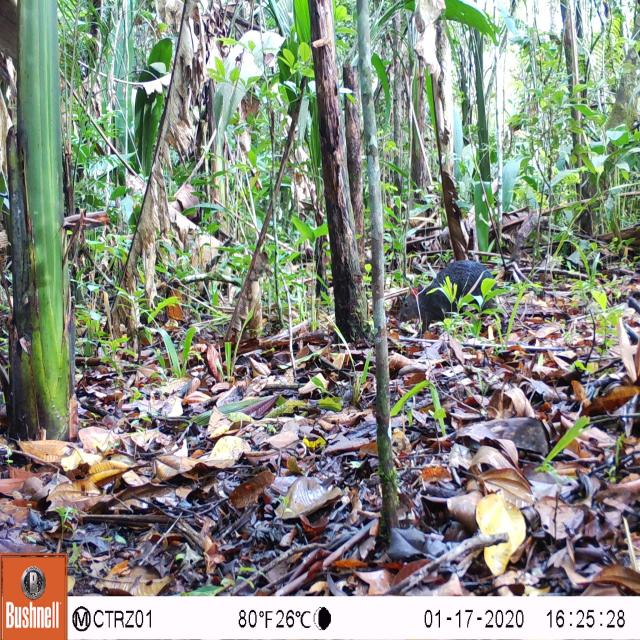Black Agouti: (387, 240, 511, 344)
